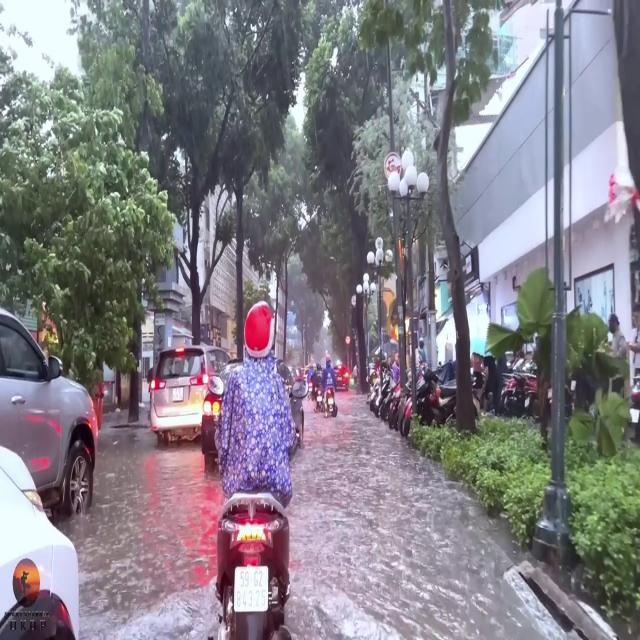bien_trang: (234, 564, 269, 616)
